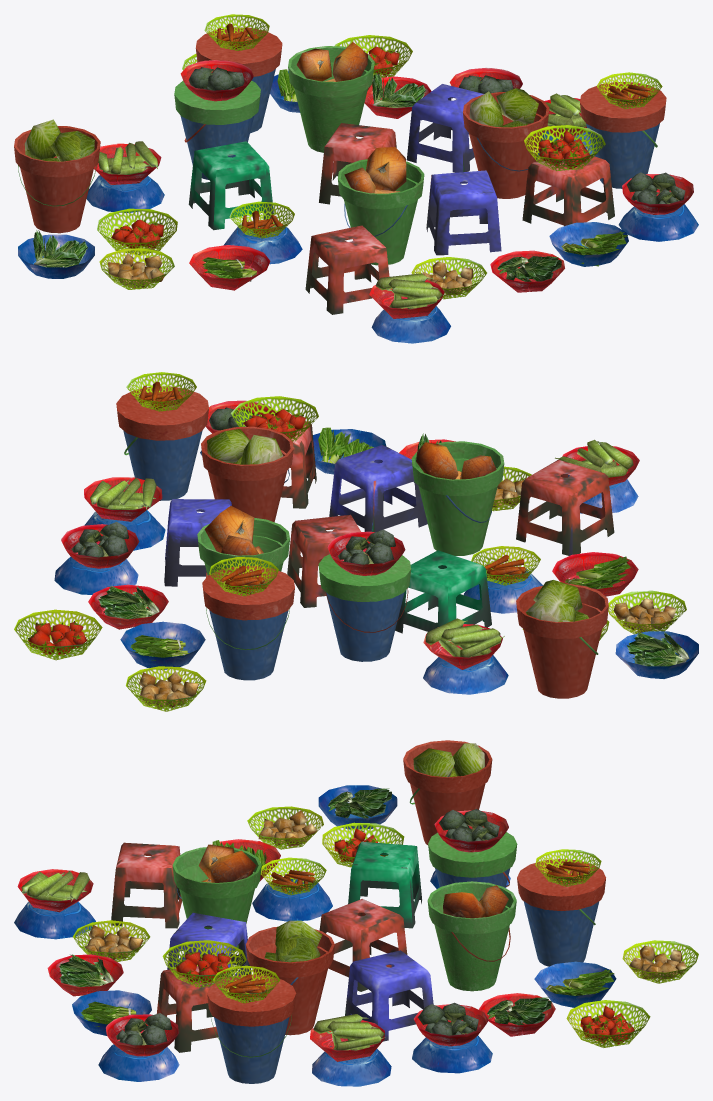
File: vietnamese_vegetable_market.glb
3 views of the same model, one above another, from view 1: azimuth 30°, elevation 25°; view 2: azimuth 150°, elevation 25°; view 3: azimuth 270°, elevation 25° (orthographic). The views are drawn at different scales.
Visible parts, largest first — view 1: Circle.006, PlasticChair3.001, Circle.019; view 2: Circle.006, Circle.019, PlasticChair3.001; view 3: Circle.006, Circle.019, PlasticChair3.001.
Part boxes in pixels (box(x1,y1,x2,y2)): Circle.006: box(305, 72, 698, 343); PlasticChair3.001: box(14, 60, 302, 290); Circle.019: box(182, 14, 593, 204); Circle.006: box(116, 372, 639, 555); Circle.019: box(14, 477, 360, 711); PlasticChair3.001: box(318, 529, 698, 698); Circle.006: box(14, 842, 334, 1083); Circle.019: box(310, 849, 698, 1086); PlasticChair3.001: box(212, 740, 517, 928).
Size of the model in its own units: 7.58 by 1.39 by 7.52.
Materials: 1 (1 with a texture image).
